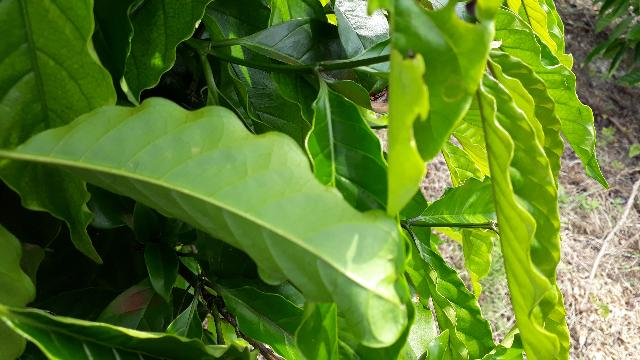healthy: (14, 96, 400, 345)
